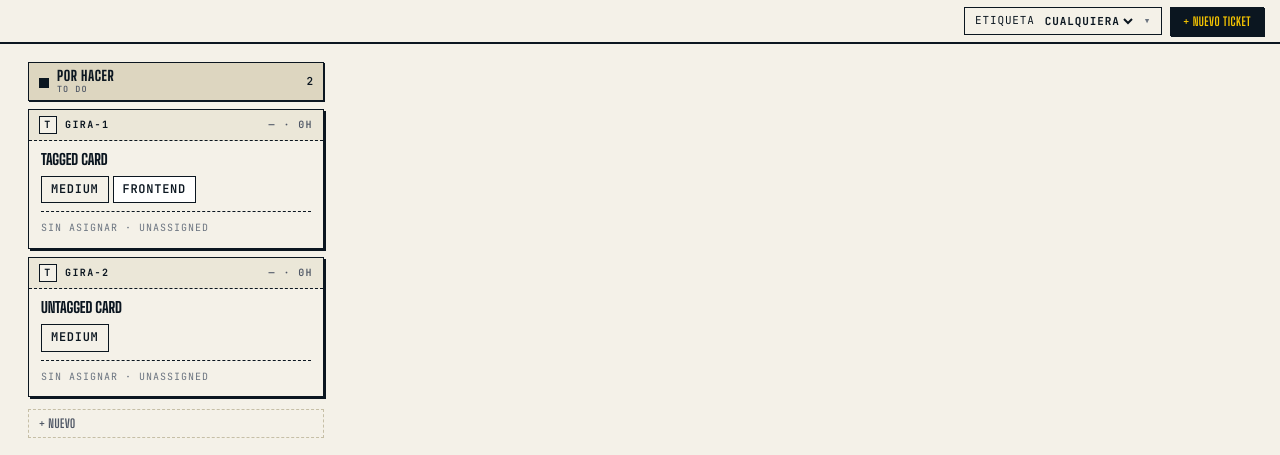
Test: BoardPage coverage top-up › clears the label filter by re-selecting the "cualquiera" option (value || null)
Expected: the text "Tagged card" is shown, [41,150,108,168]
Select "frontend" in the dropdown. click: (1088, 21)
box: [1041,13,1136,29]
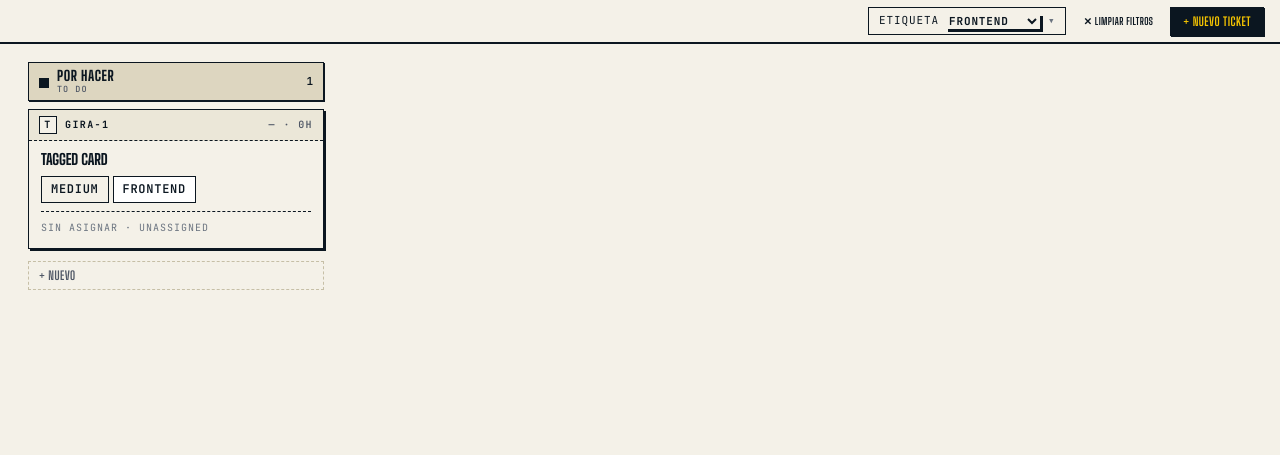
Expected: the button "Untagged card" is gone
Select "cualquiera" in the dropdown. click: (992, 21)
box: [945,13,1040,29]
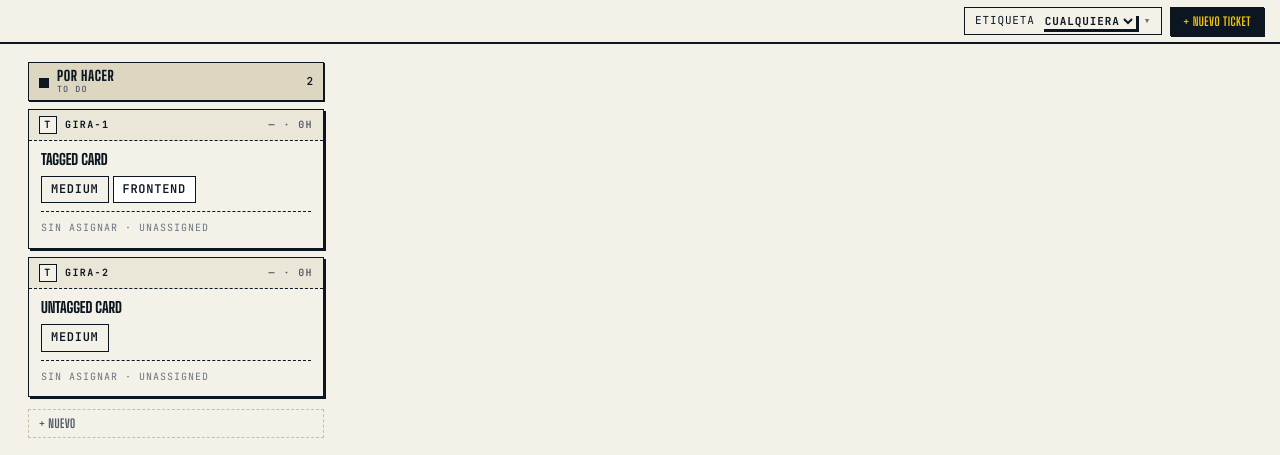
Expected: the text "Untagged card" is shown, [41,298,122,316]
Expected: the button "Limpiar filtros" is gone
